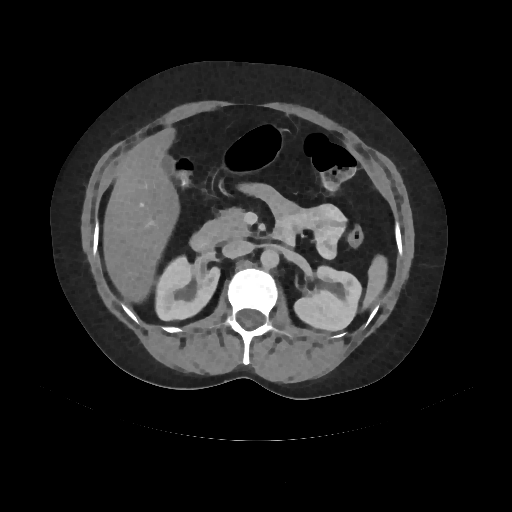Lesion: (342, 275, 353, 289)
